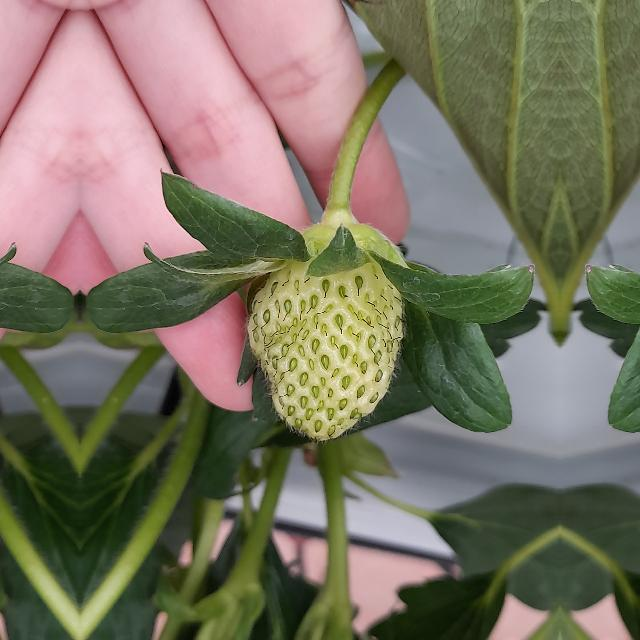Health_25: (248, 256, 402, 440)
